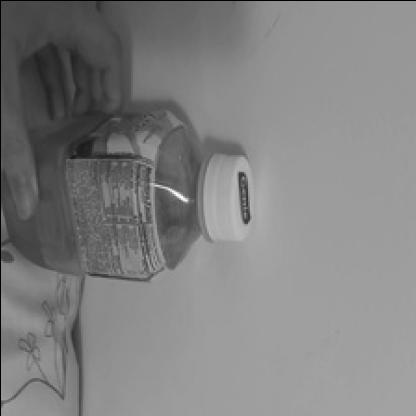plastic_bottles: (0, 106, 259, 280)
